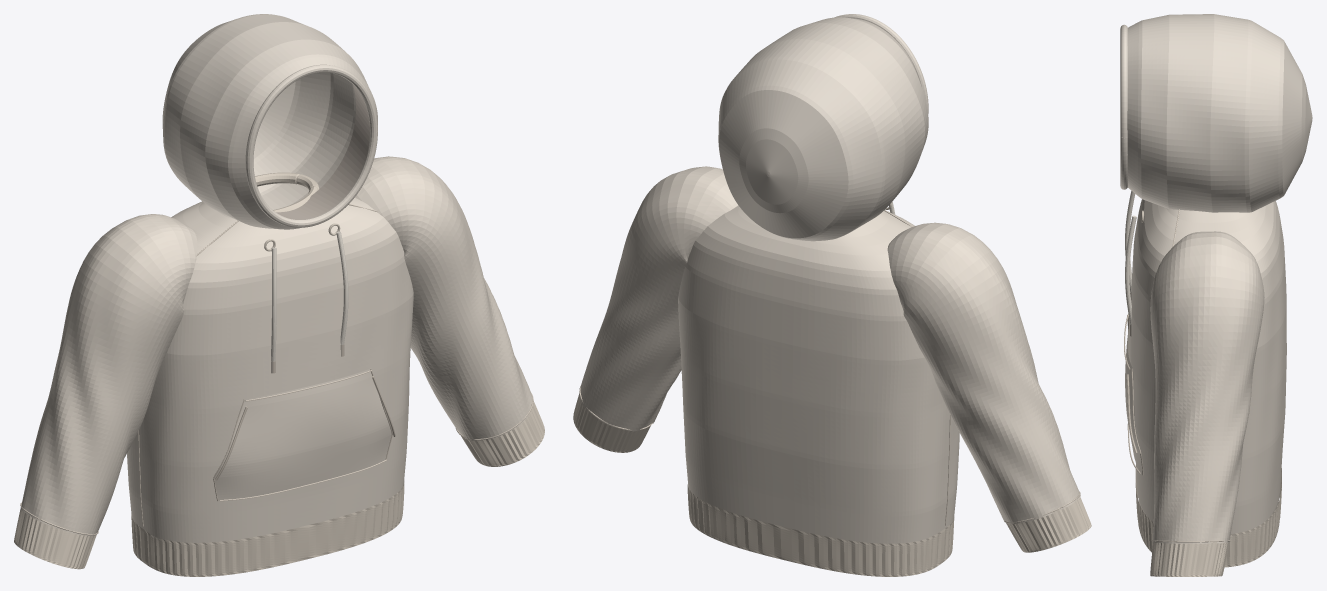
The model's file is oatmeal_taupe_hoodie_editable.glb.
The picture shows the model from 3 angles, left to right: view 1: azimuth 30°, elevation 25°; view 2: azimuth 150°, elevation 25°; view 3: azimuth 270°, elevation 25°; orthographic projection. The views are drawn at different scales.
Parts seen in each view (by area): view 1: Front_Panel_Print_Ready, Left_Sleeve, Hood_Outer_Shell, Right_Sleeve, Kangaroo_Pocket_Editable, Ribbed_Bottom_Hem, Hood_Front_Rim_Piping, Hood_Inner_Lining, Left_Ribbed_Cuff, Right_Ribbed_Cuff, Back_Panel_Print_Ready, Neckline_Collar_Rib; view 2: Back_Panel_Print_Ready, Hood_Outer_Shell, Left_Sleeve, Right_Sleeve, Ribbed_Bottom_Hem, Left_Ribbed_Cuff, Right_Ribbed_Cuff, Front_Panel_Print_Ready, Hood_Front_Rim_Piping; view 3: Hood_Outer_Shell, Right_Sleeve, Back_Panel_Print_Ready, Front_Panel_Print_Ready, Right_Ribbed_Cuff, Ribbed_Bottom_Hem, Hood_Front_Rim_Piping, Kangaroo_Pocket_Editable, Right_Drawstring_Cord, Left_Drawstring_Cord.
Part boxes in pixels (box(x1,y1,x2,y2)): Front_Panel_Print_Ready: box(137, 197, 413, 542); Left_Sleeve: box(21, 214, 197, 535); Hood_Outer_Shell: box(162, 14, 377, 229); Right_Sleeve: box(355, 156, 533, 440); Kangaroo_Pocket_Editable: box(214, 369, 391, 500); Ribbed_Bottom_Hem: box(131, 481, 404, 576); Hood_Front_Rim_Piping: box(245, 64, 377, 227); Hood_Inner_Lining: box(276, 85, 369, 219); Left_Ribbed_Cuff: box(14, 507, 96, 569); Right_Ribbed_Cuff: box(459, 402, 544, 466); Back_Panel_Print_Ready: box(127, 201, 217, 528); Neckline_Collar_Rib: box(255, 172, 319, 212); Back_Panel_Print_Ready: box(678, 205, 948, 543); Hood_Outer_Shell: box(718, 17, 928, 241); Left_Sleeve: box(887, 222, 1080, 523); Right_Sleeve: box(580, 166, 737, 431); Ribbed_Bottom_Hem: box(687, 484, 954, 576); Left_Ribbed_Cuff: box(1006, 497, 1091, 552); Right_Ribbed_Cuff: box(573, 391, 650, 452); Front_Panel_Print_Ready: box(870, 211, 959, 529); Hood_Front_Rim_Piping: box(834, 14, 928, 113); Hood_Outer_Shell: box(1127, 14, 1312, 212); Right_Sleeve: box(1150, 231, 1264, 543); Back_Panel_Print_Ready: box(1209, 201, 1286, 533); Front_Panel_Print_Ready: box(1130, 199, 1208, 521); Right_Ribbed_Cuff: box(1150, 542, 1229, 576); Ribbed_Bottom_Hem: box(1135, 468, 1281, 567); Hood_Front_Rim_Piping: box(1120, 24, 1127, 189); Kangaroo_Pocket_Editable: box(1125, 322, 1143, 474); Right_Drawstring_Cord: box(1125, 215, 1136, 324); Left_Drawstring_Cord: box(1125, 191, 1135, 292).
Bounding box in the file's own units: 1.28 × 1.19 × 0.427.
